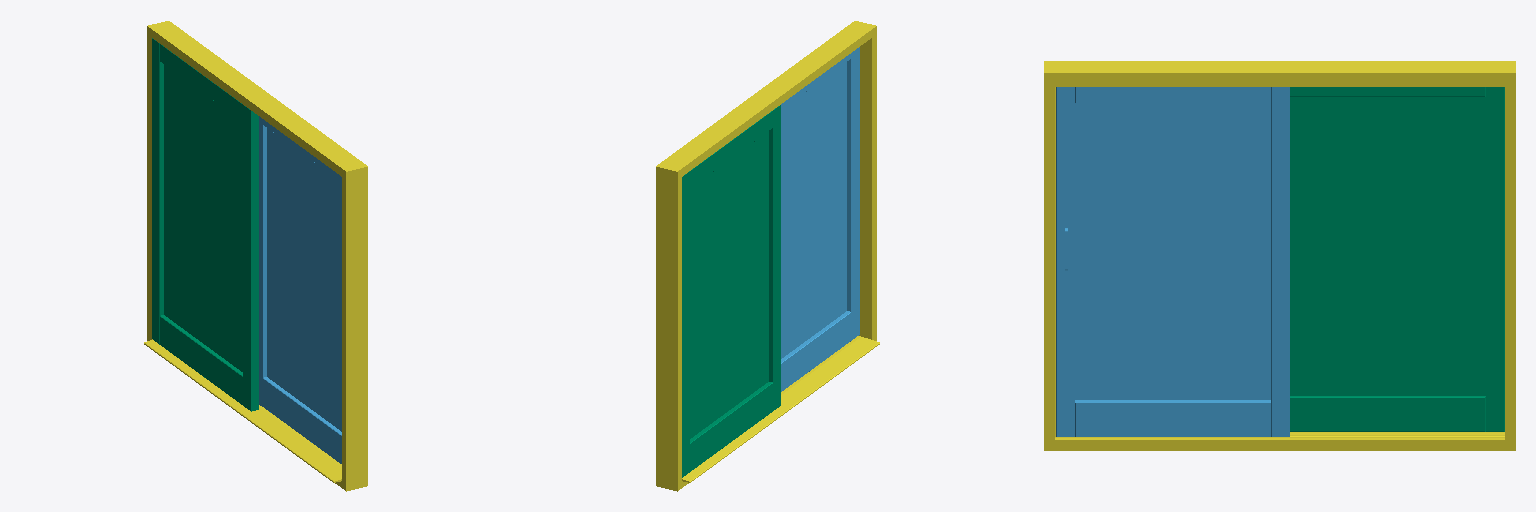
robot.urdf — partnet_302650a74e884d99544782db8258108:
<?xml version="1.0" ?>
<robot name="partnet_302650a74e884d99544782db8258108">
	<link name="base"/>
	<link name="link_0">
		<visual name="translation-2">
			<origin xyz="0 0 0"/>
			<geometry>
				<mesh filename="textured_objs/original-6.obj"/>
			</geometry>
		</visual>
		<visual name="translation-2">
			<origin xyz="0 0 0"/>
			<geometry>
				<mesh filename="textured_objs/original-4.obj"/>
			</geometry>
		</visual>
		<visual name="translation-2">
			<origin xyz="0 0 0"/>
			<geometry>
				<mesh filename="textured_objs/original-8.obj"/>
			</geometry>
		</visual>
		<visual name="translation-2">
			<origin xyz="0 0 0"/>
			<geometry>
				<mesh filename="textured_objs/original-7.obj"/>
			</geometry>
		</visual>
		<visual name="translation-2">
			<origin xyz="0 0 0"/>
			<geometry>
				<mesh filename="textured_objs/original-3.obj"/>
			</geometry>
		</visual>
		<visual name="translation-2">
			<origin xyz="0 0 0"/>
			<geometry>
				<mesh filename="textured_objs/original-5.obj"/>
			</geometry>
		</visual>
		<visual name="translation-2">
			<origin xyz="0 0 0"/>
			<geometry>
				<mesh filename="textured_objs/original-2.obj"/>
			</geometry>
		</visual>
		<collision>
			<origin xyz="0 0 0"/>
			<geometry>
				<mesh filename="textured_objs/original-6.obj"/>
			</geometry>
		</collision>
		<collision>
			<origin xyz="0 0 0"/>
			<geometry>
				<mesh filename="textured_objs/original-4.obj"/>
			</geometry>
		</collision>
		<collision>
			<origin xyz="0 0 0"/>
			<geometry>
				<mesh filename="textured_objs/original-8.obj"/>
			</geometry>
		</collision>
		<collision>
			<origin xyz="0 0 0"/>
			<geometry>
				<mesh filename="textured_objs/original-7.obj"/>
			</geometry>
		</collision>
		<collision>
			<origin xyz="0 0 0"/>
			<geometry>
				<mesh filename="textured_objs/original-3.obj"/>
			</geometry>
		</collision>
		<collision>
			<origin xyz="0 0 0"/>
			<geometry>
				<mesh filename="textured_objs/original-5.obj"/>
			</geometry>
		</collision>
		<collision>
			<origin xyz="0 0 0"/>
			<geometry>
				<mesh filename="textured_objs/original-2.obj"/>
			</geometry>
		</collision>
	</link>
	<joint name="joint_0" type="prismatic">
		<origin xyz="0 0 0"/>
		<axis xyz="-1 0 0"/>
		<child link="link_0"/>
		<parent link="link_2"/>
		<limit lower="0" upper="0.6839999999999999"/>
	</joint>
	<link name="link_1">
		<visual name="translation-3">
			<origin xyz="0 0 0"/>
			<geometry>
				<mesh filename="textured_objs/original-19.obj"/>
			</geometry>
		</visual>
		<visual name="translation-3">
			<origin xyz="0 0 0"/>
			<geometry>
				<mesh filename="textured_objs/original-22.obj"/>
			</geometry>
		</visual>
		<visual name="translation-3">
			<origin xyz="0 0 0"/>
			<geometry>
				<mesh filename="textured_objs/original-21.obj"/>
			</geometry>
		</visual>
		<visual name="translation-3">
			<origin xyz="0 0 0"/>
			<geometry>
				<mesh filename="textured_objs/original-18.obj"/>
			</geometry>
		</visual>
		<visual name="translation-3">
			<origin xyz="0 0 0"/>
			<geometry>
				<mesh filename="textured_objs/original-20.obj"/>
			</geometry>
		</visual>
		<collision>
			<origin xyz="0 0 0"/>
			<geometry>
				<mesh filename="textured_objs/original-19.obj"/>
			</geometry>
		</collision>
		<collision>
			<origin xyz="0 0 0"/>
			<geometry>
				<mesh filename="textured_objs/original-22.obj"/>
			</geometry>
		</collision>
		<collision>
			<origin xyz="0 0 0"/>
			<geometry>
				<mesh filename="textured_objs/original-21.obj"/>
			</geometry>
		</collision>
		<collision>
			<origin xyz="0 0 0"/>
			<geometry>
				<mesh filename="textured_objs/original-18.obj"/>
			</geometry>
		</collision>
		<collision>
			<origin xyz="0 0 0"/>
			<geometry>
				<mesh filename="textured_objs/original-20.obj"/>
			</geometry>
		</collision>
	</link>
	<joint name="joint_1" type="fixed">
		<origin xyz="0 0 0"/>
		<axis xyz="1 0 0"/>
		<child link="link_1"/>
		<parent link="link_2"/>
		<limit lower="-0.008000000000000007" upper="0.6640000000000001"/>
	</joint>
	<link name="link_2">
		<visual name="base_body-4">
			<origin xyz="0 0 0"/>
			<geometry>
				<mesh filename="textured_objs/original-16.obj"/>
			</geometry>
		</visual>
		<visual name="base_body-4">
			<origin xyz="0 0 0"/>
			<geometry>
				<mesh filename="textured_objs/original-13.obj"/>
			</geometry>
		</visual>
		<visual name="base_body-4">
			<origin xyz="0 0 0"/>
			<geometry>
				<mesh filename="textured_objs/original-15.obj"/>
			</geometry>
		</visual>
		<visual name="base_body-4">
			<origin xyz="0 0 0"/>
			<geometry>
				<mesh filename="textured_objs/original-11.obj"/>
			</geometry>
		</visual>
		<visual name="base_body-4">
			<origin xyz="0 0 0"/>
			<geometry>
				<mesh filename="textured_objs/original-12.obj"/>
			</geometry>
		</visual>
		<visual name="base_body-4">
			<origin xyz="0 0 0"/>
			<geometry>
				<mesh filename="textured_objs/original-10.obj"/>
			</geometry>
		</visual>
		<visual name="base_body-4">
			<origin xyz="0 0 0"/>
			<geometry>
				<mesh filename="textured_objs/original-14.obj"/>
			</geometry>
		</visual>
		<collision>
			<origin xyz="0 0 0"/>
			<geometry>
				<mesh filename="textured_objs/original-16.obj"/>
			</geometry>
		</collision>
		<collision>
			<origin xyz="0 0 0"/>
			<geometry>
				<mesh filename="textured_objs/original-13.obj"/>
			</geometry>
		</collision>
		<collision>
			<origin xyz="0 0 0"/>
			<geometry>
				<mesh filename="textured_objs/original-15.obj"/>
			</geometry>
		</collision>
		<collision>
			<origin xyz="0 0 0"/>
			<geometry>
				<mesh filename="textured_objs/original-11.obj"/>
			</geometry>
		</collision>
		<collision>
			<origin xyz="0 0 0"/>
			<geometry>
				<mesh filename="textured_objs/original-12.obj"/>
			</geometry>
		</collision>
		<collision>
			<origin xyz="0 0 0"/>
			<geometry>
				<mesh filename="textured_objs/original-10.obj"/>
			</geometry>
		</collision>
		<collision>
			<origin xyz="0 0 0"/>
			<geometry>
				<mesh filename="textured_objs/original-14.obj"/>
			</geometry>
		</collision>
	</link>
	<joint name="joint_2" type="fixed">
		<origin rpy="1.570796326794897 0 -1.570796326794897" xyz="0 0 0"/>
		<child link="link_2"/>
		<parent link="base"/>
	</joint>
</robot>

--- Render facts (derived) ---
Views: 3 orthographic renders of the robot side by side, from view 1: azimuth 30°, elevation 25°; view 2: azimuth 150°, elevation 25°; view 3: azimuth 270°, elevation 25°.
Robot: partnet_302650a74e884d99544782db8258108 — 4 links, 3 joints (1 prismatic, 2 fixed); root link base; default pose: all joints at 0.
Links seen in each view (by area): view 1: link_1, link_0, link_2; view 2: link_1, link_0, link_2; view 3: link_0, link_1, link_2.
Link boxes in pixels (<box>): link_1: <box>152,38,258,411</box>; link_0: <box>259,116,341,463</box>; link_2: <box>144,21,367,491</box>; link_1: <box>682,105,780,477</box>; link_0: <box>781,47,859,391</box>; link_2: <box>656,21,879,491</box>; link_0: <box>1056,87,1289,436</box>; link_1: <box>1290,87,1504,431</box>; link_2: <box>1044,61,1515,450</box>.
Size in the robot's own frame: 0.1621 by 1.5 by 1.33 metres.
Meshes: 19 distinct files referenced, 19 mesh visuals loaded (19 OBJ).
